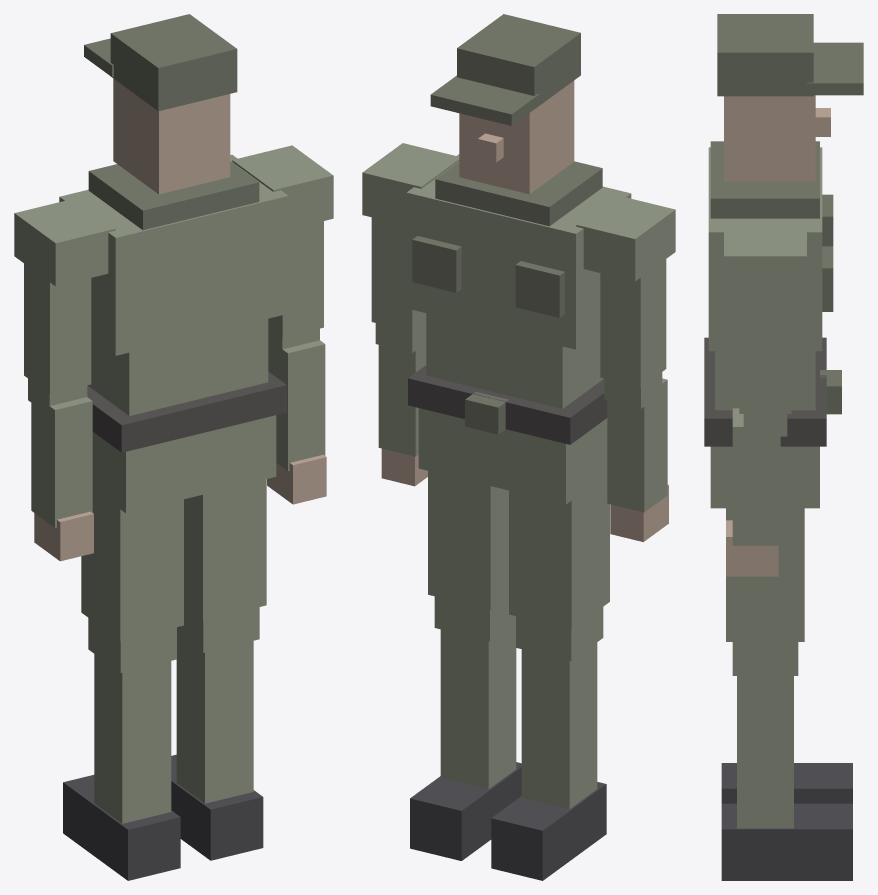
File: crew_nava.glb
3 renders of one model, left to right at view 1: azimuth 30°, elevation 25°; view 2: azimuth 150°, elevation 25°; view 3: azimuth 270°, elevation 25°, orthographic. The views are drawn at different scales.
Parts seen in each view (by area): view 1: chest, thigh_-1, shin_-1, shin_1, hips, waist, thigh_1, head, cap_top, uarm_l, belt, farm_l (+14 smaller); view 2: chest, thigh_-1, shin_-1, shin_1, hips, waist, thigh_1, head, cap_top, boot_-1, uarm_l, farm_l (+18 smaller); view 3: boot_1, shin_1, cap_top, head, chest, thigh_1, shldr_1, uarm_r, farm_r, collar, belt, hips (+10 smaller).
Boxes of the visible parts, x1,y1,x2,y2 form: chest: (59,154,288,355); thigh_-1: (81,489,183,640); shin_-1: (94,654,171,823); shin_1: (176,634,253,803); hips: (92,415,276,513); waist: (88,319,268,415); thigh_1: (184,479,266,620); head: (113,78,230,194); cap_top: (110,14,237,111); uarm_l: (24,263,91,394); belt: (87,371,286,452); farm_l: (31,397,92,527); chest: (406,154,631,349); thigh_-1: (509,474,609,629); shin_-1: (521,642,597,809); shin_1: (440,623,516,789); hips: (418,408,607,504); waist: (426,313,603,408); thigh_1: (428,471,508,609); head: (459,80,574,194); cap_top: (457,14,580,107); boot_-1: (491,782,606,880); uarm_l: (600,259,666,387); farm_l: (607,378,667,512); boot_1: (721,803,852,880); shin_1: (737,676,793,828); cap_top: (717,14,813,96); head: (724,95,815,181); chest: (708,147,822,351); thigh_1: (726,508,804,641); shldr_1: (724,226,806,299); uarm_r: (739,300,791,413); farm_r: (732,408,780,545); collar: (710,141,819,218); belt: (704,337,826,446); hips: (710,446,819,508).
Bounding box in the file's own units: 0.74 × 2.05 × 0.365.
